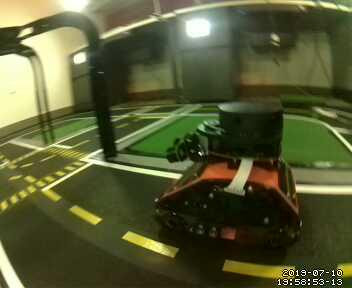pheeno: (153, 102, 303, 246)
